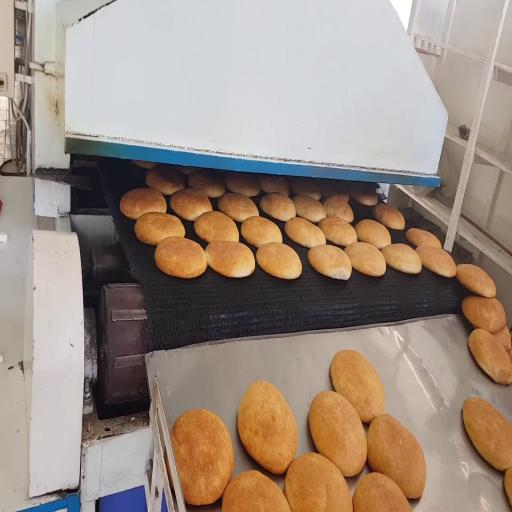bread: (171, 410, 234, 505), (238, 381, 297, 474), (367, 414, 426, 498), (309, 391, 367, 476), (284, 453, 352, 511), (331, 350, 385, 423), (463, 397, 511, 471), (222, 471, 290, 511), (468, 329, 511, 384), (353, 473, 411, 511), (155, 237, 207, 278), (205, 241, 255, 277), (256, 242, 301, 279), (135, 212, 185, 245), (462, 296, 506, 333), (308, 245, 351, 280), (194, 211, 239, 243), (120, 188, 166, 219), (345, 242, 386, 276), (456, 264, 496, 297), (170, 189, 212, 220), (416, 246, 456, 277), (241, 217, 282, 247), (146, 165, 185, 195), (382, 244, 421, 274), (285, 218, 325, 247), (218, 193, 259, 221), (319, 217, 357, 246), (355, 220, 391, 249), (188, 170, 225, 198), (260, 193, 295, 221), (292, 196, 326, 223), (225, 172, 260, 197), (323, 194, 353, 222), (373, 204, 405, 230), (406, 228, 441, 248), (291, 178, 321, 200), (320, 180, 349, 202), (259, 175, 289, 195), (350, 186, 378, 206), (494, 326, 511, 350), (504, 467, 511, 506), (175, 166, 200, 175), (132, 161, 157, 169), (506, 348, 511, 361)
